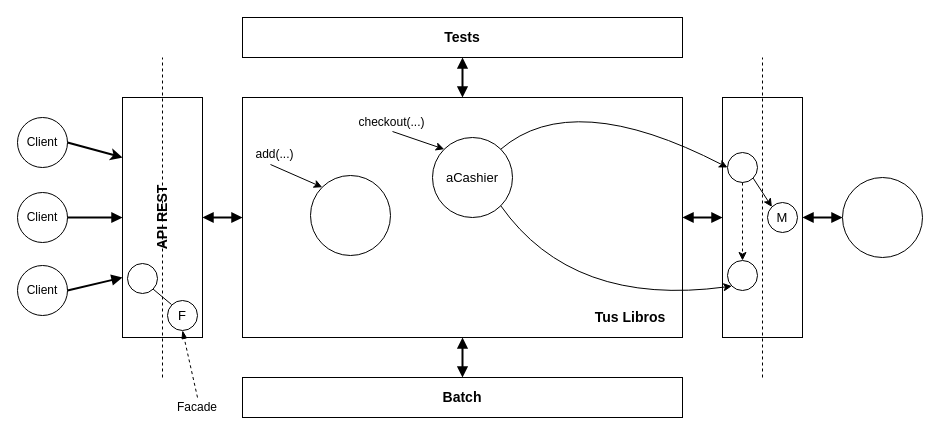
Image size: 940x435. Some labels were removed from this diagram. The centre of each missing label's shape, as x and y in pixels:
aCart: (x=350, y=215)
aM: (x=742, y=167)
aMS: (x=742, y=275)
Merchant: (x=882, y=217)
